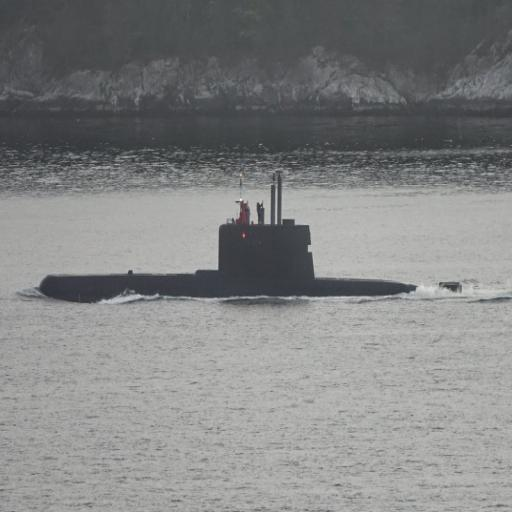submarine: (38, 176, 463, 298)
